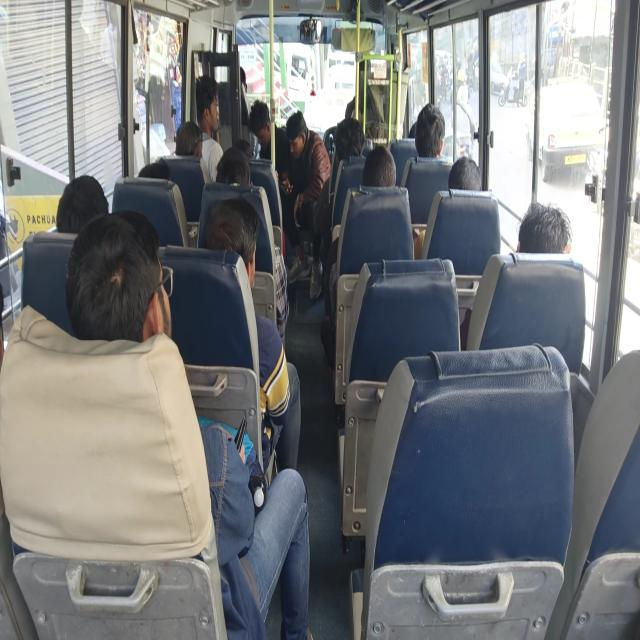person: (58, 224, 174, 380), (192, 200, 268, 285), (501, 190, 572, 280), (50, 166, 97, 247), (434, 158, 480, 212), (368, 142, 406, 204), (334, 108, 366, 167), (416, 100, 444, 161), (186, 80, 220, 130), (132, 151, 171, 194), (210, 147, 260, 180), (163, 109, 198, 149), (242, 102, 275, 144), (282, 111, 301, 155), (230, 40, 252, 76), (407, 119, 422, 142)
